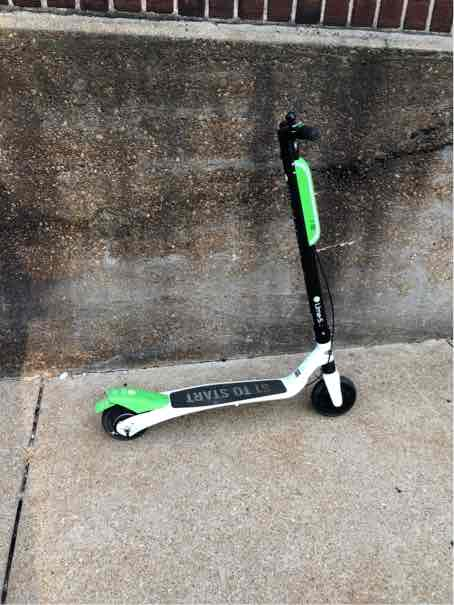scooter: (88, 99, 355, 447)
